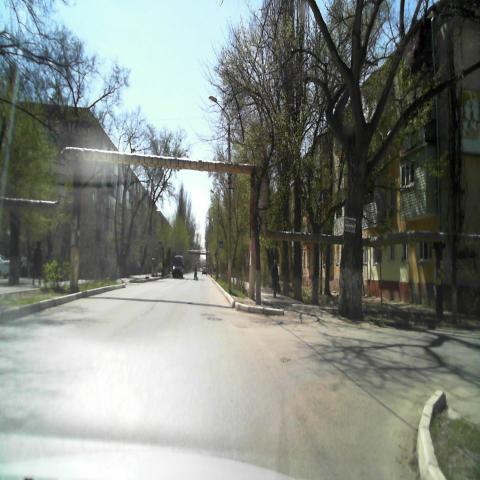5_19_1: (218, 240, 223, 248), (158, 241, 163, 249)
